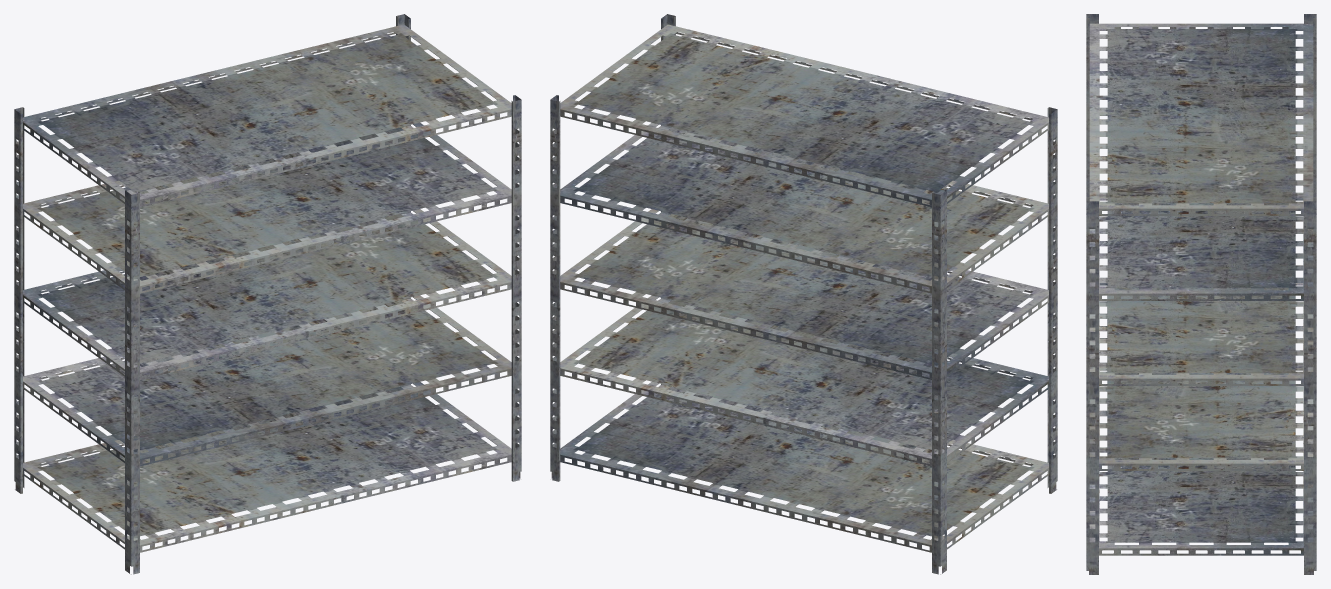
File: rack.glb
The picture shows the model from 3 angles, left to right: view 1: azimuth 30°, elevation 25°; view 2: azimuth 150°, elevation 25°; view 3: azimuth 270°, elevation 25°; orthographic projection.
Parts seen in each view (by area): view 1: Material2.001, Material2.002; view 2: Material2.001, Material2.002; view 3: Material2.001, Material2.002.
Boxes of the visible parts, bbox=[...] form: Material2.001: bbox=[23, 24, 511, 552]; Material2.002: bbox=[14, 14, 521, 574]; Material2.001: bbox=[560, 24, 1048, 552]; Material2.002: bbox=[550, 14, 1057, 574]; Material2.001: bbox=[1089, 23, 1313, 555]; Material2.002: bbox=[1086, 14, 1316, 574].
Size of the model in its own units: 2.69 by 2.5 by 1.39.
2 materials, 2 textured.
